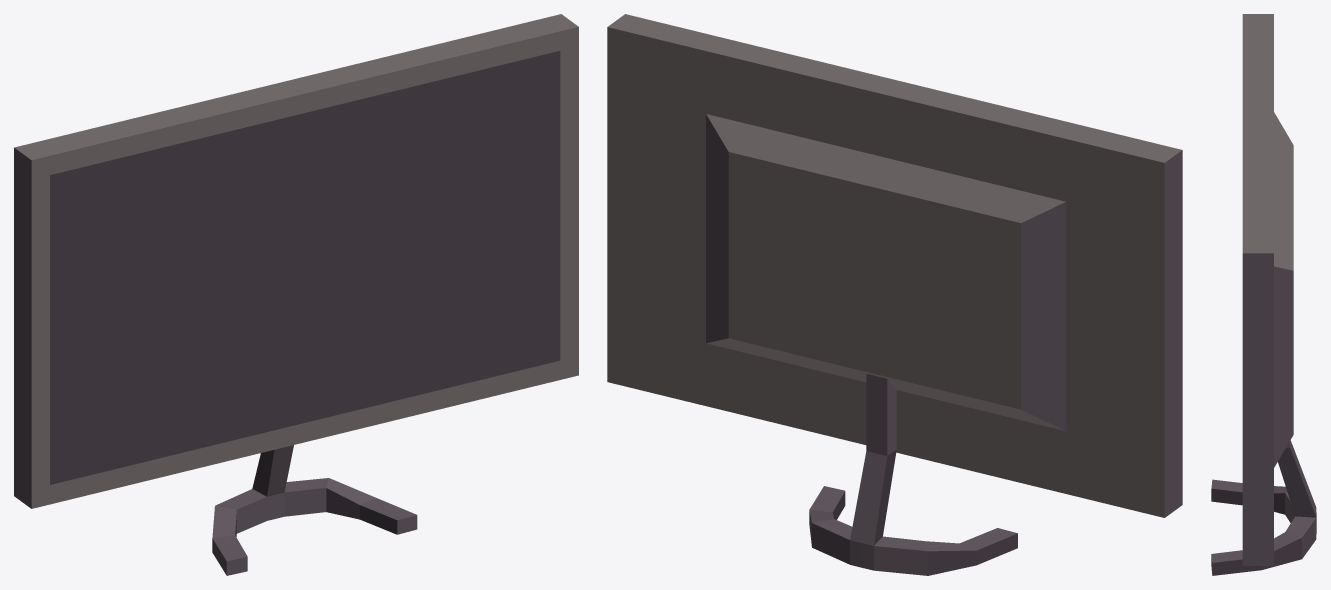
The model's file is Monitor.fbx.
3 views of the same model, side by side, from view 1: azimuth 30°, elevation 25°; view 2: azimuth 150°, elevation 25°; view 3: azimuth 270°, elevation 25° (orthographic). The views are drawn at different scales.
Visible parts, largest first — view 1: Monitor; view 2: Monitor; view 3: Monitor.
Boxes of the visible parts, x1,y1,x2,y2 form: Monitor: (14, 14, 578, 575); Monitor: (607, 14, 1182, 575); Monitor: (1211, 14, 1316, 575).
Bounding box in the file's own units: 140 × 109 × 26.
